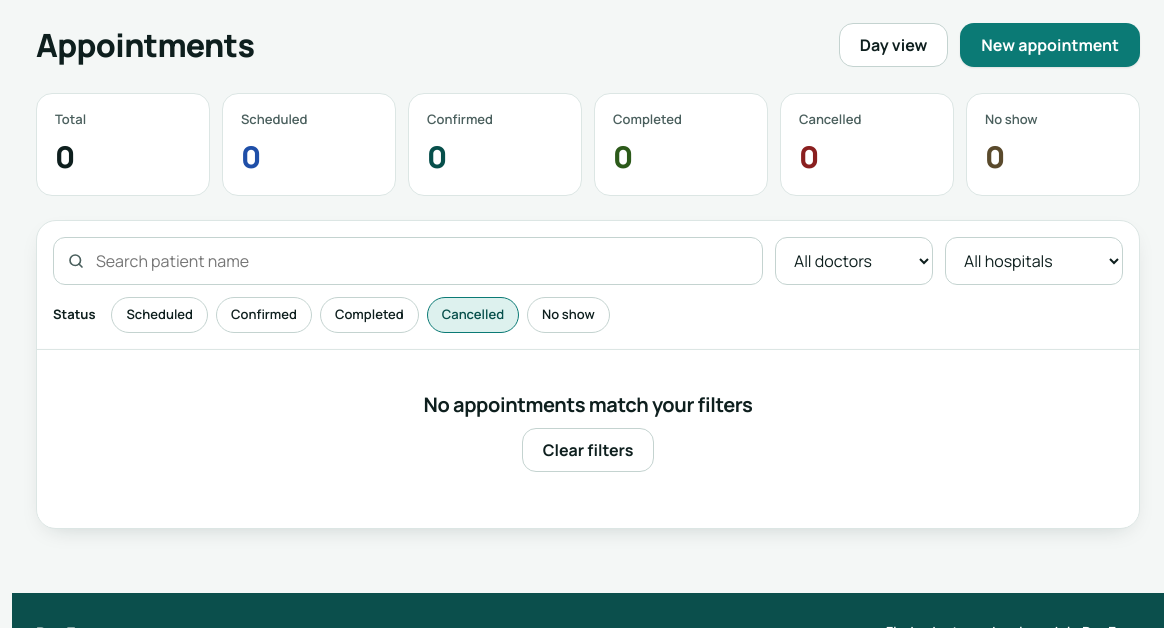
Scenario: appointments list › shows the empty state with a working Clear filters button
Expected: the heading "No appointments match your filters" is shown, [424, 390, 752, 418]
Click the button "Clear filters". click: click(588, 450)
box: [522, 428, 654, 472]
(page scrolled)
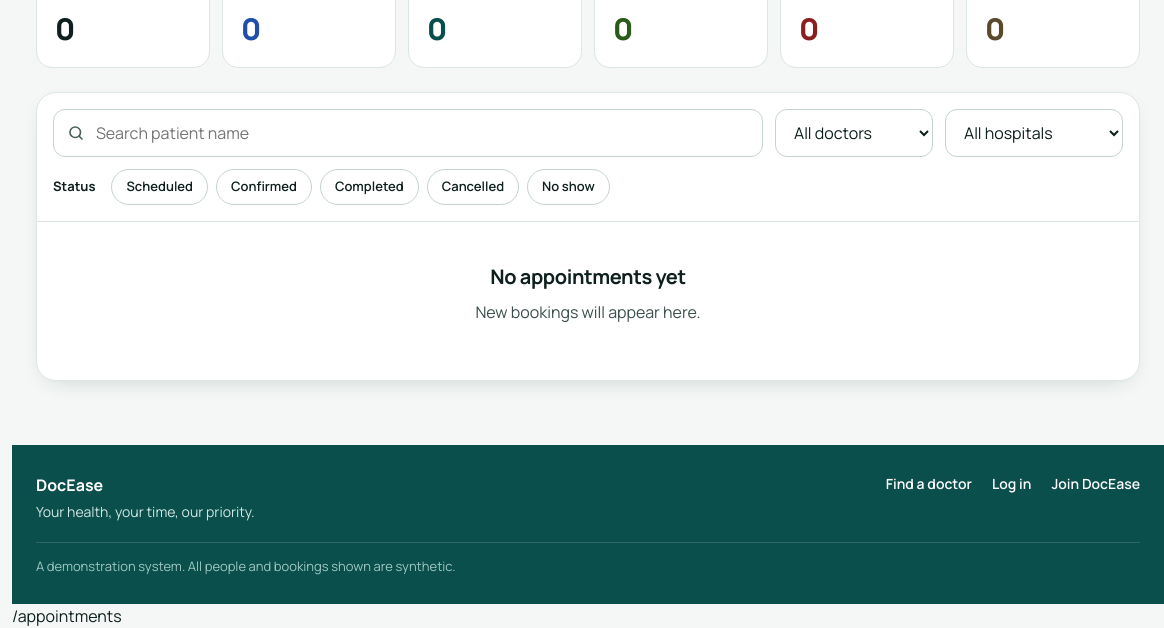
Result: the heading "No appointments yet" is shown at [490, 262, 686, 290]
Result: the text with test id "location" reads "/appointments" at [12, 605, 122, 627]
